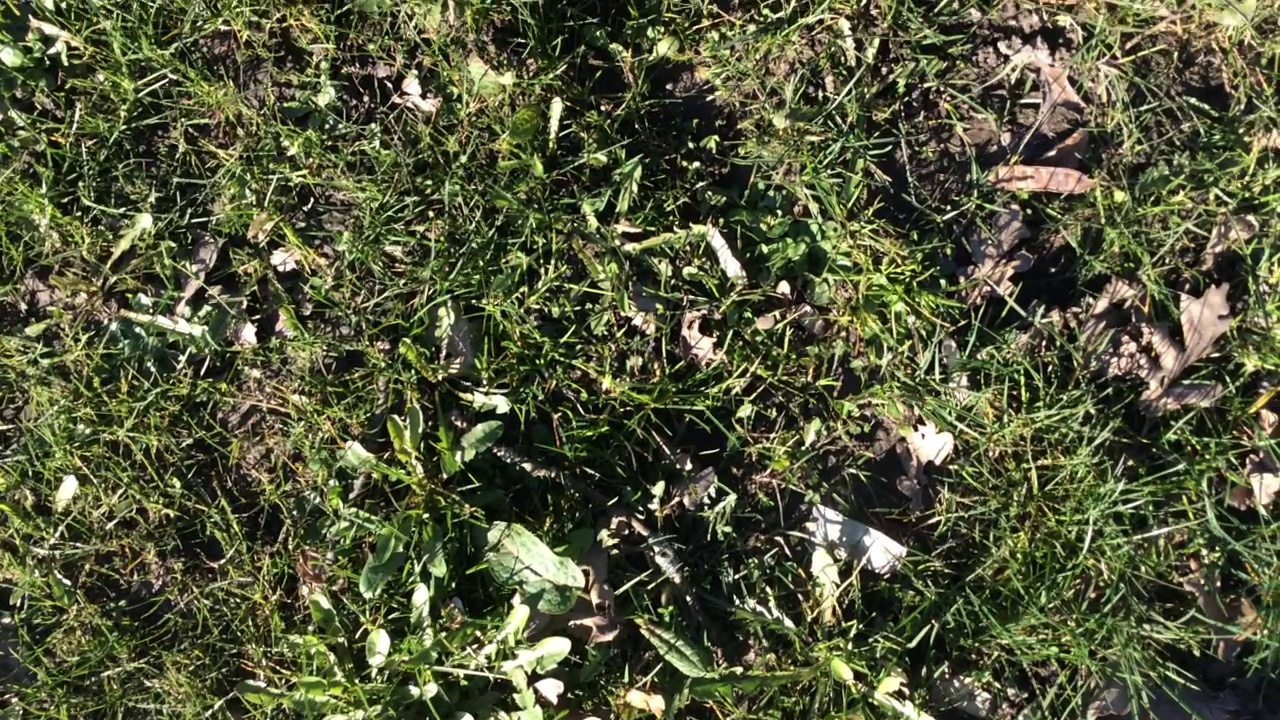rumex: (471, 521, 585, 615), (631, 617, 707, 680)
